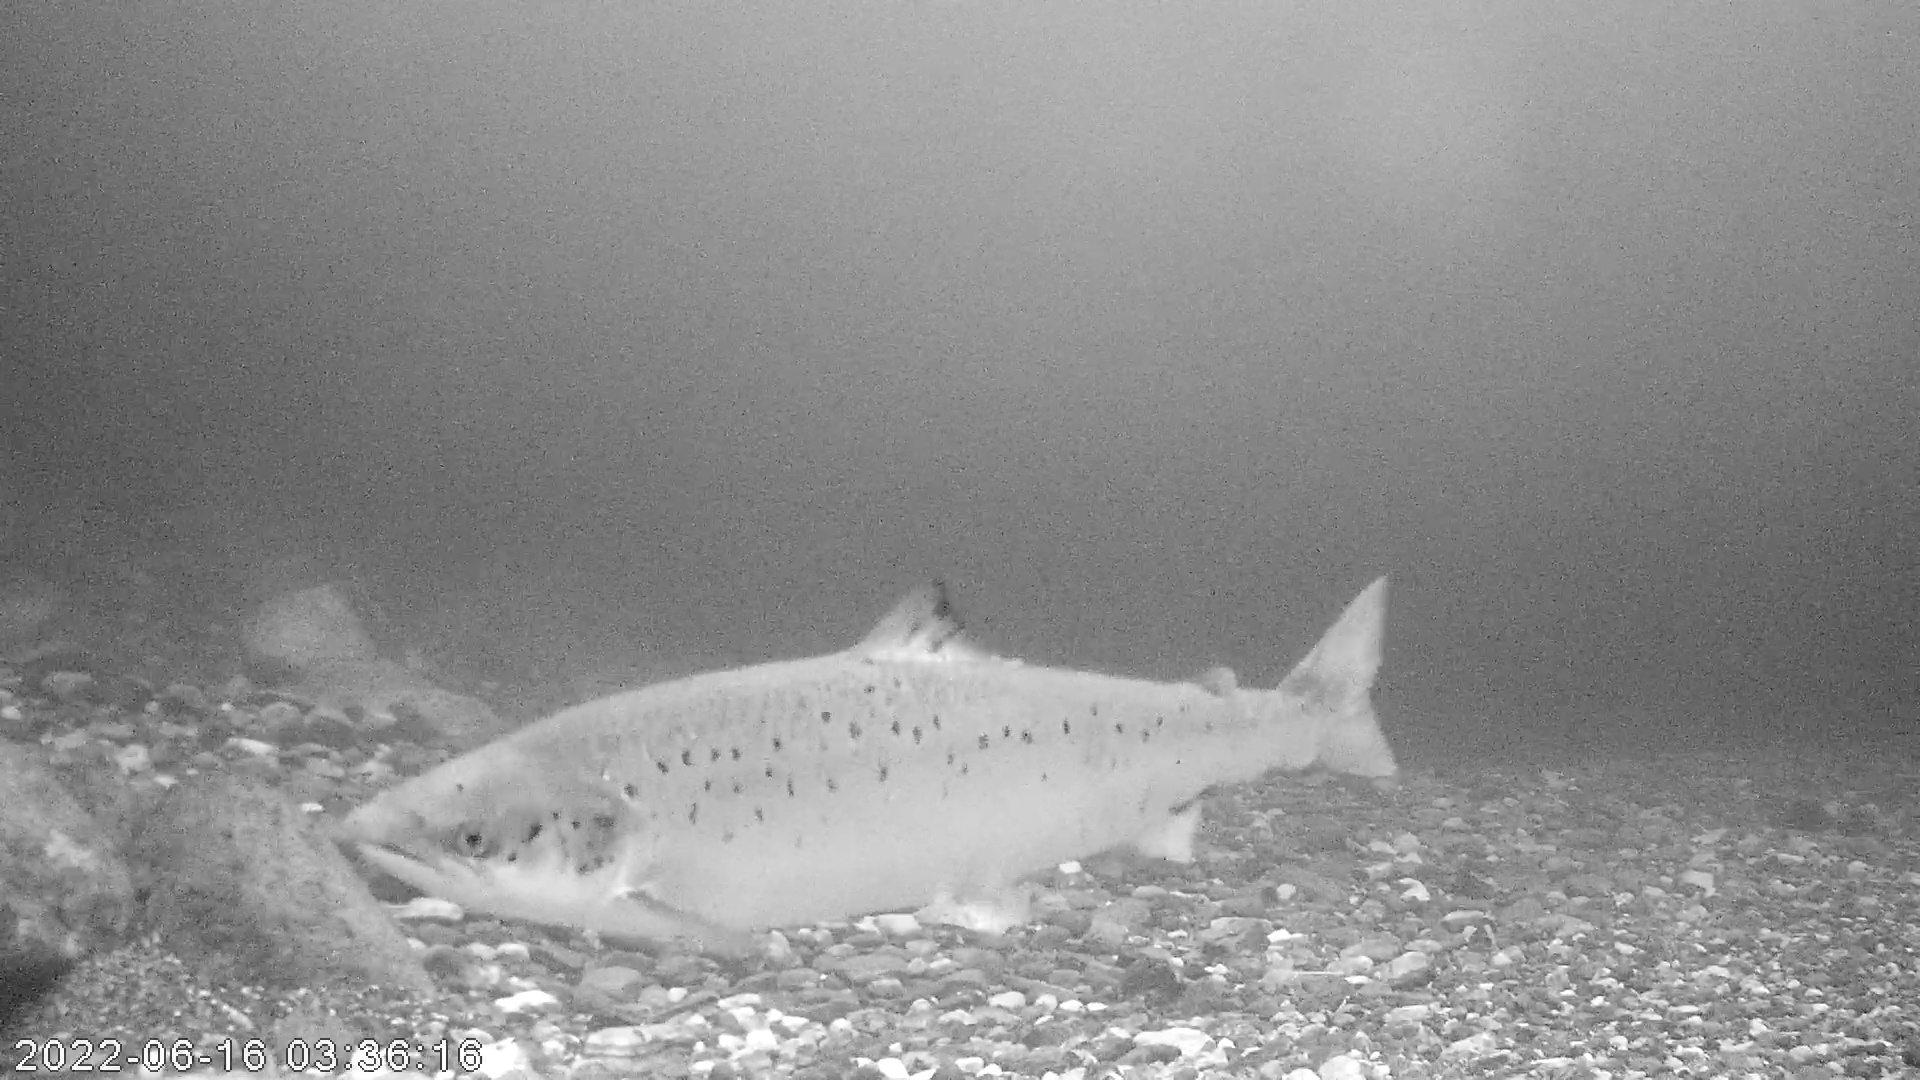salmon: (340, 571, 1400, 960)
